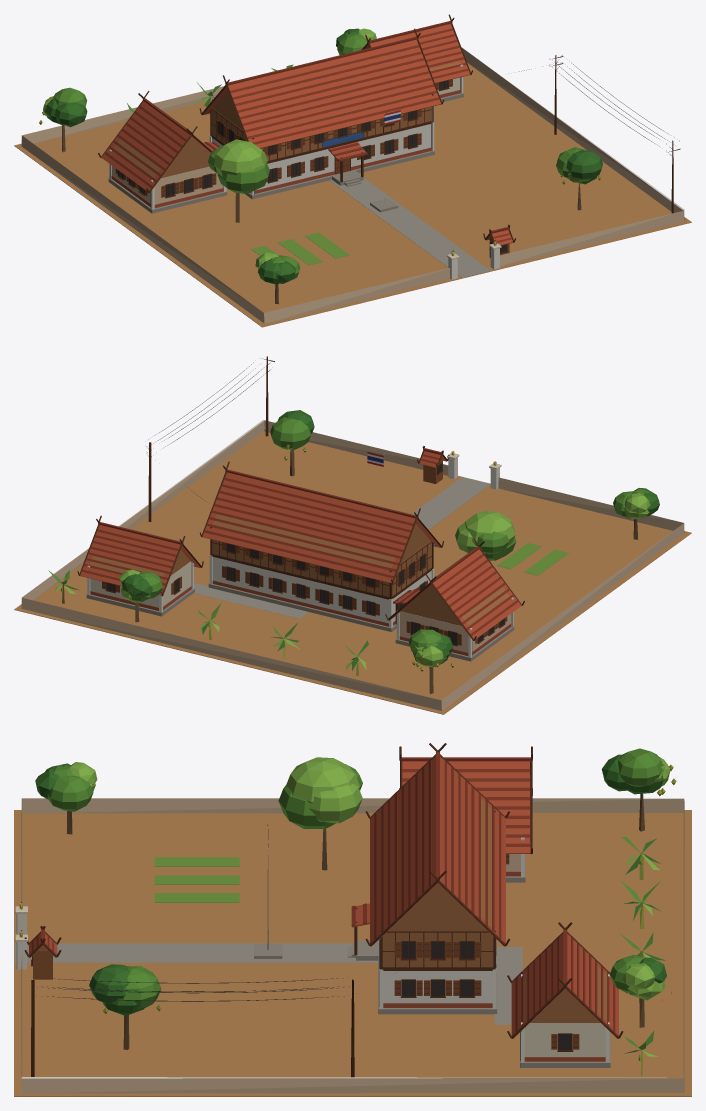
File: police.glb
3 views of the same model, one above another, from view 1: azimuth 30°, elevation 25°; view 2: azimuth 150°, elevation 25°; view 3: azimuth 270°, elevation 25° (orthographic). The views are drawn at different scales.
Parts seen in each view (by area): view 1: body, windows; view 2: body, windows; view 3: body, windows.
Part boxes in pixels (x1,y1,x2,y2): body: (14,14,691,327); windows: (118,80,507,255); body: (14,356,691,714); windows: (107,451,504,644); body: (14,743,691,1096); windows: (19,903,571,1049).
Size of the model in its own units: 47.9 by 11.5 by 47.9.
